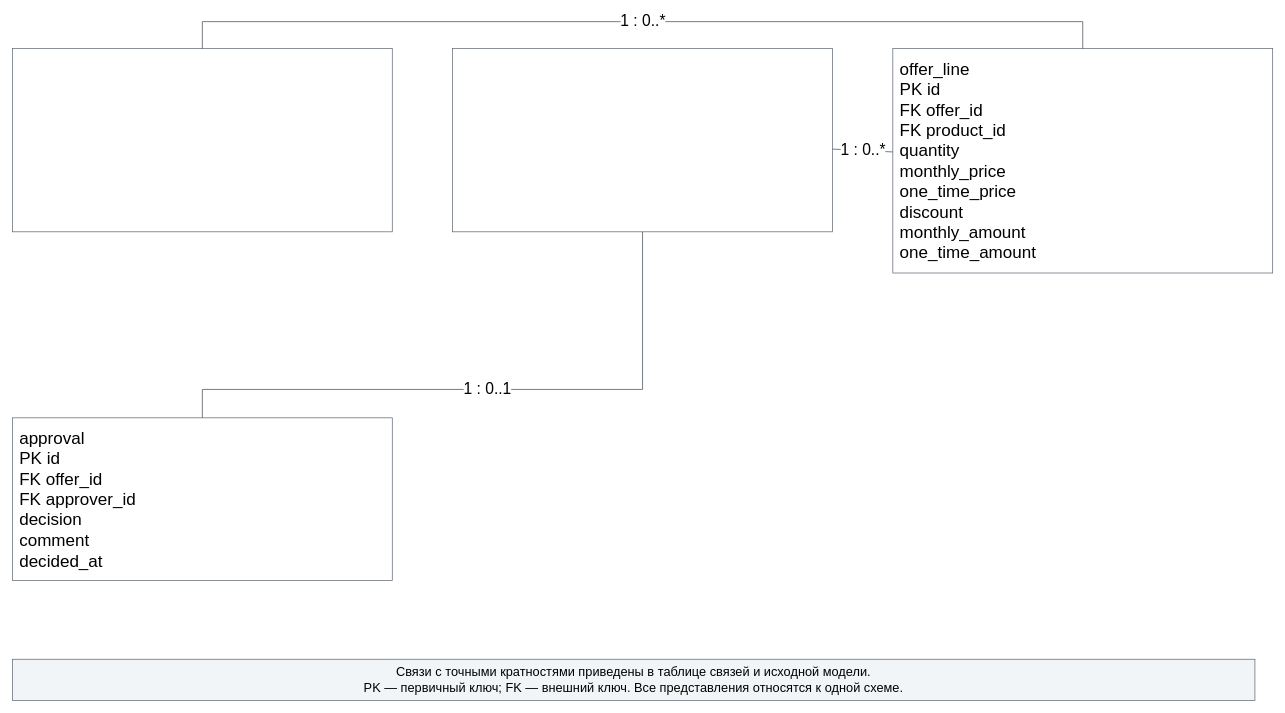
Some shapes in this 1285 by 713 pixel diagram are drawn without their labels. The centre of each missing label's shape, as x and y in pixels:
"offer PK id code FK deal_id version status_code FK created_by created_at" goes at (x=642, y=140).
"product PK id code name unit monthly_price one_time_price is_active" goes at (x=202, y=140).
